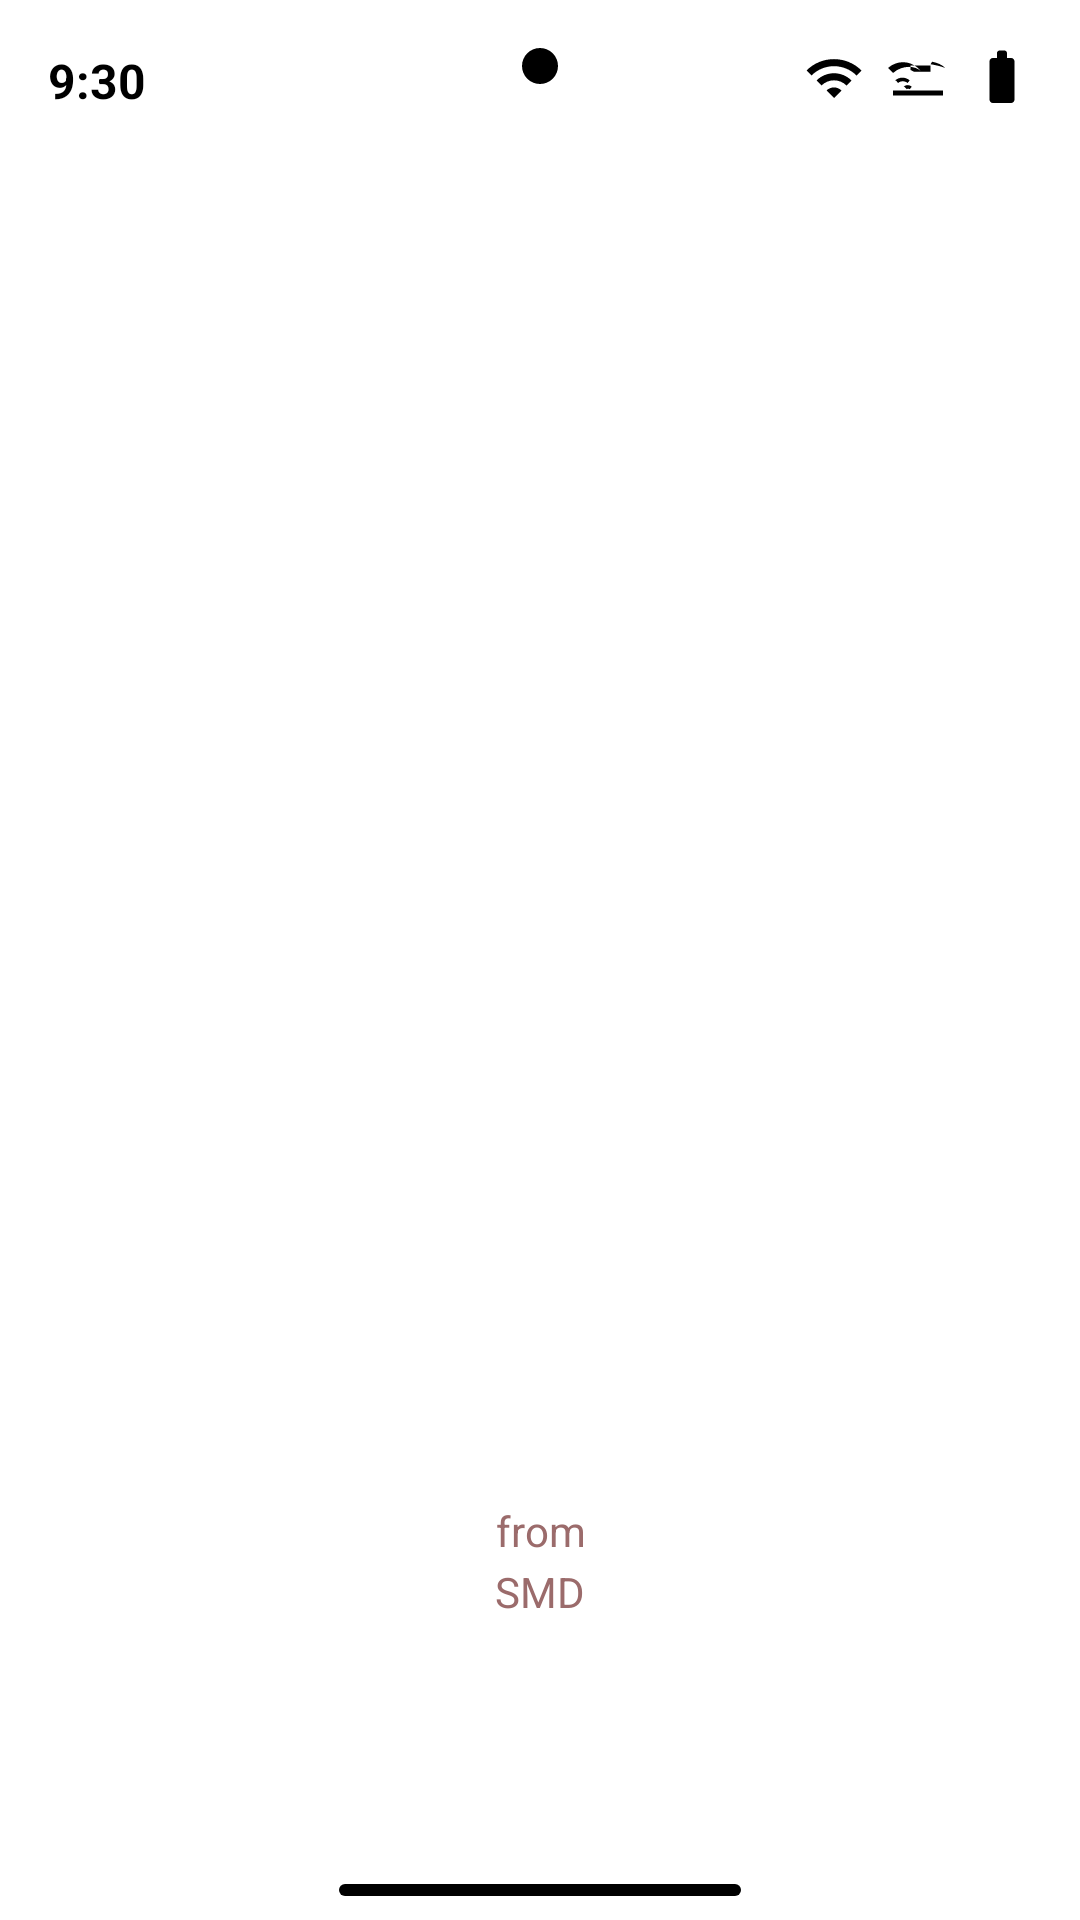

Screen size 1080 x 1920. Icon name, then its box in pixels as (x1, y1, x2, y2):
battery: (989, 50, 1015, 103)
wifi: (806, 59, 862, 98)
